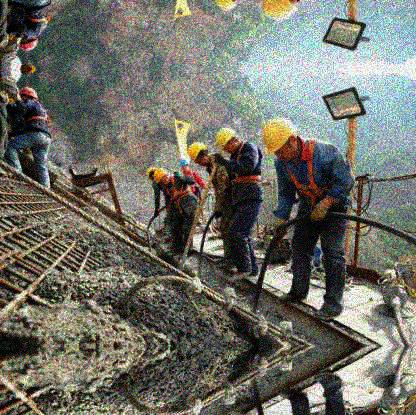helmet: (262, 117, 300, 161), (215, 127, 242, 155), (187, 142, 211, 165), (17, 86, 39, 104), (18, 36, 38, 54), (153, 168, 172, 186), (179, 158, 191, 170), (146, 167, 155, 181)
